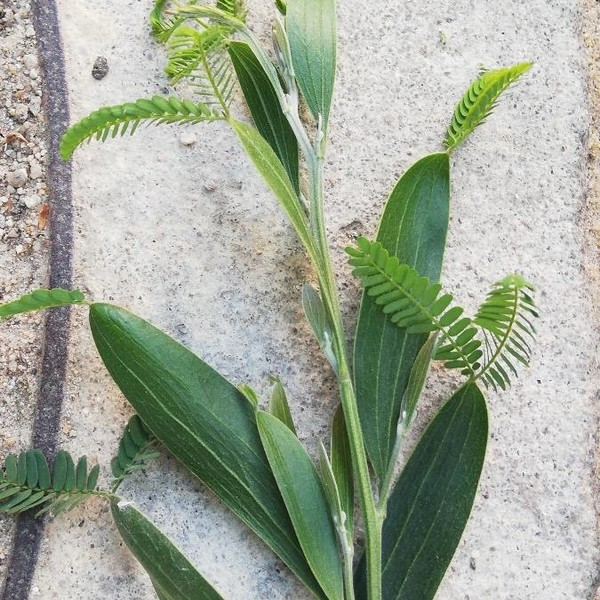obstacle: (112, 74, 523, 576)
